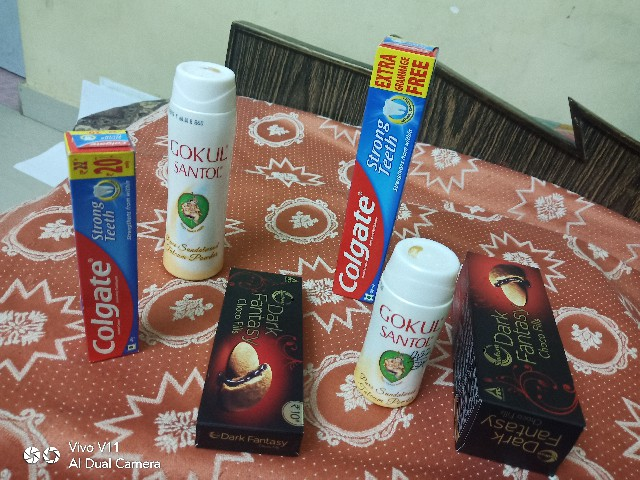colgatetoothpaste big: (330, 22, 435, 305)
colgatetoothpaste small: (50, 117, 147, 370)
darkfantasy big: (459, 245, 591, 465)
darkfantasy small: (198, 254, 312, 456)
gokulsantol big: (154, 55, 235, 282)
gokulsantol small: (352, 228, 459, 418)
